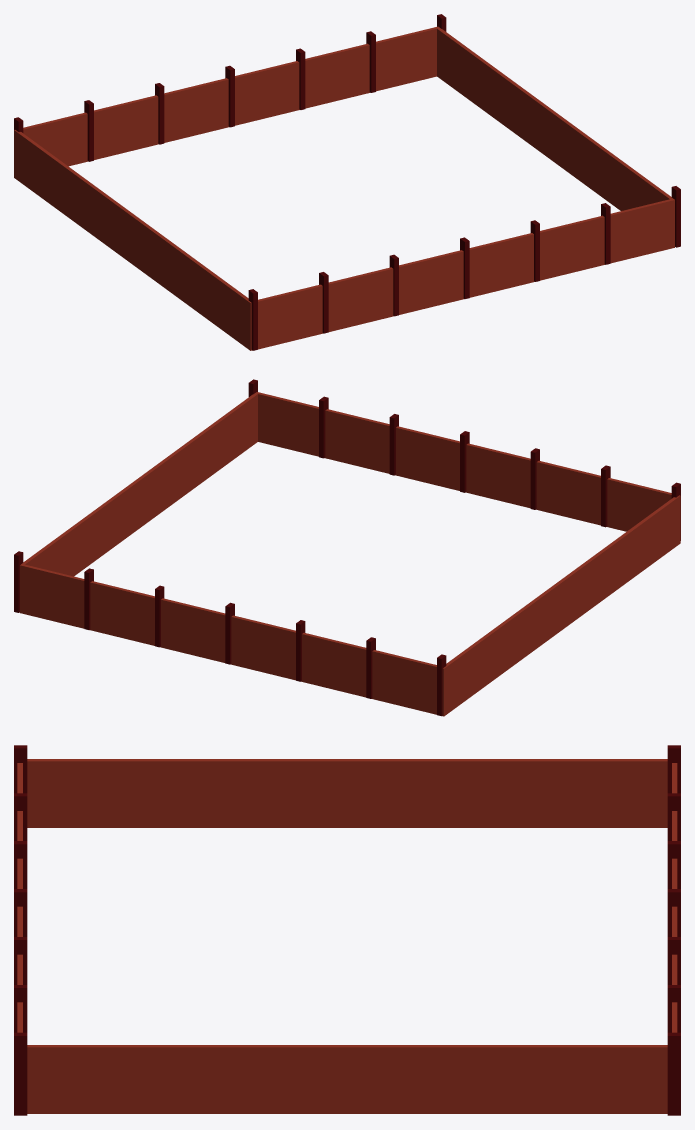
The model's file is Mall Wall Border.glb.
3 views of the same model, one above another, from view 1: azimuth 30°, elevation 25°; view 2: azimuth 150°, elevation 25°; view 3: azimuth 270°, elevation 25° (orthographic). The views are drawn at different scales.
Parts seen in each view (by area): view 1: Cube.184, Cube.185, Cube.001, Cube.200, Cube.201, Cube.202; view 2: Cube.185, Cube.184, Cube.001, Cube.200, Cube.202, Cube.201; view 3: Cube.200, Cube.001, Cube.202, Cube.201, Cube.184, Cube.185.
Boxes of the visible parts, bbox=[...] form: Cube.184: bbox=[252, 199, 674, 350]; Cube.185: bbox=[23, 27, 436, 166]; Cube.001: bbox=[14, 130, 251, 350]; Cube.200: bbox=[435, 26, 674, 210]; Cube.201: bbox=[248, 186, 680, 350]; Cube.202: bbox=[14, 14, 446, 161]; Cube.185: bbox=[20, 564, 442, 715]; Cube.184: bbox=[255, 392, 671, 531]; Cube.001: bbox=[442, 495, 680, 716]; Cube.200: bbox=[19, 392, 258, 612]; Cube.202: bbox=[14, 551, 446, 716]; Cube.201: bbox=[248, 379, 680, 540]; Cube.200: bbox=[27, 1045, 667, 1113]; Cube.001: bbox=[27, 759, 667, 827]; Cube.202: bbox=[667, 745, 680, 1115]; Cube.201: bbox=[14, 745, 27, 1115]; Cube.184: bbox=[17, 763, 22, 1032]; Cube.185: bbox=[672, 763, 677, 1032].
Size of the model in its own units: 944 by 122 by 913.
